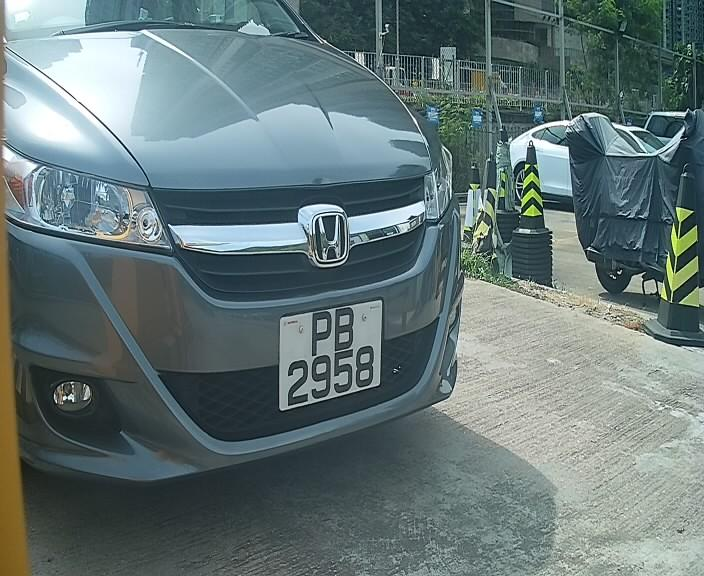License Plate: (271, 294, 390, 417)
